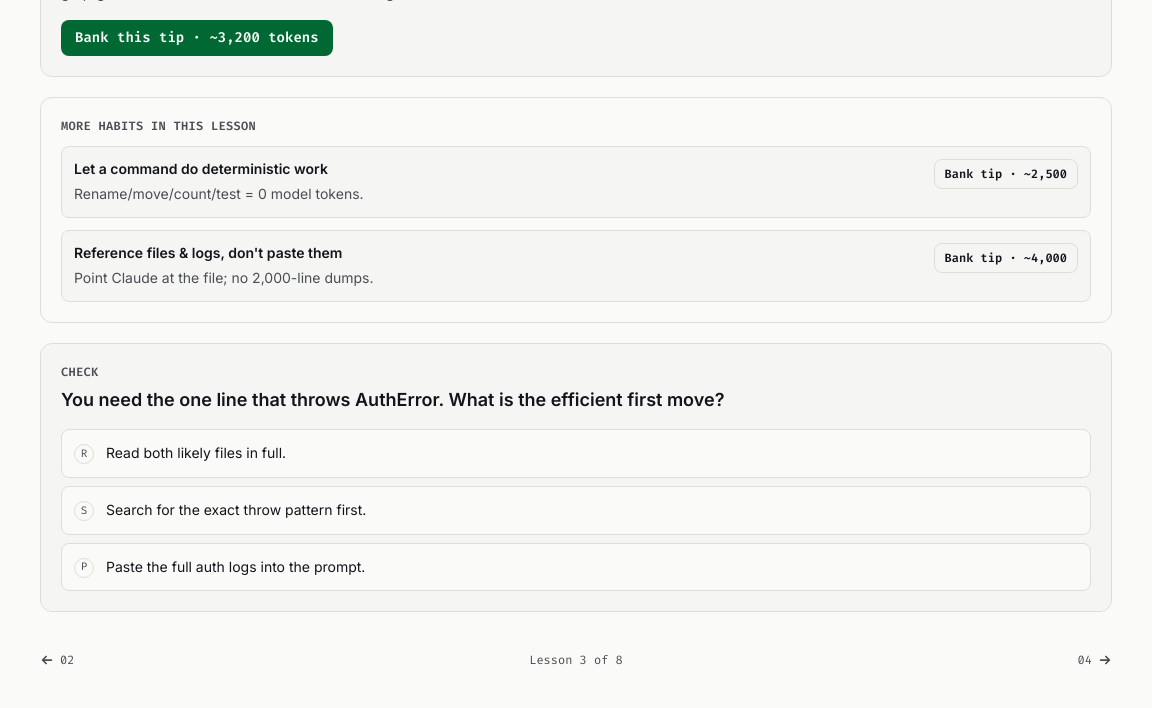
Test: lesson check explains wrong and correct answers
(page scrolled)
Click the button "R Read both likely files in full." at (196, 453), box [61, 429, 1091, 478]
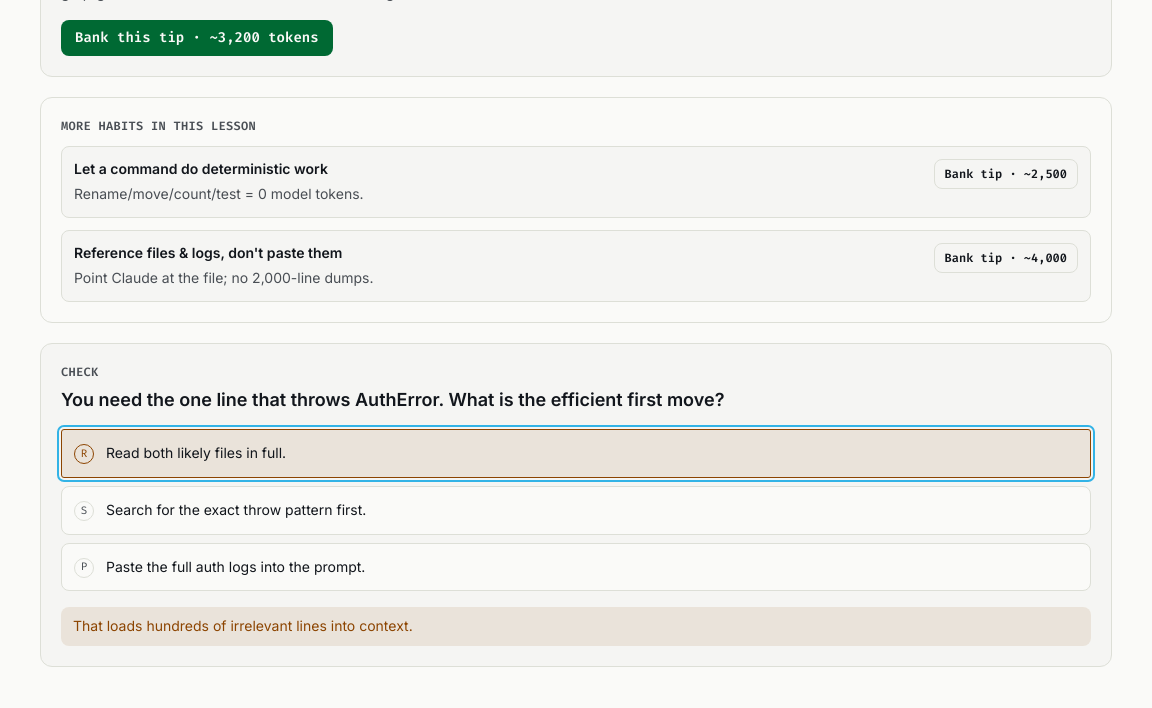
Result: the text "That loads hundreds of irrelevant lines into context." is shown at [61, 607, 1091, 646]
Click the button "S Search for the exact throw pattern first." at (236, 509), box [61, 486, 1091, 535]
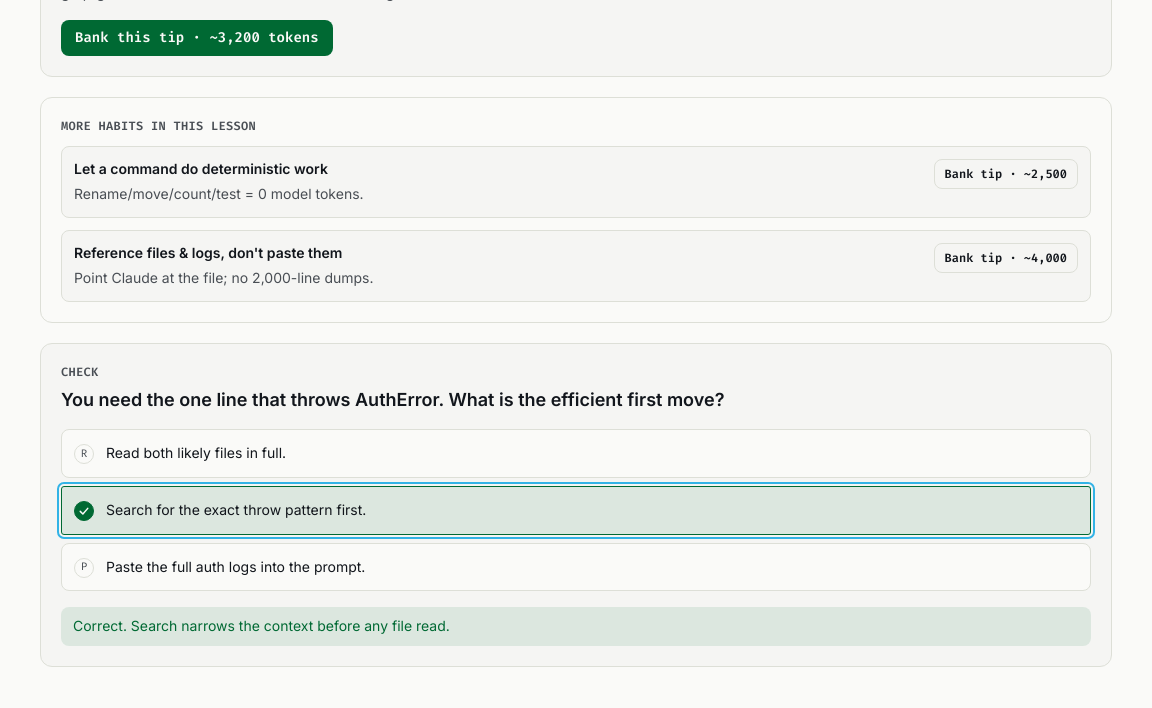
Result: the text "Correct. Search narrows the context before any file read." is shown at [61, 607, 1091, 646]
